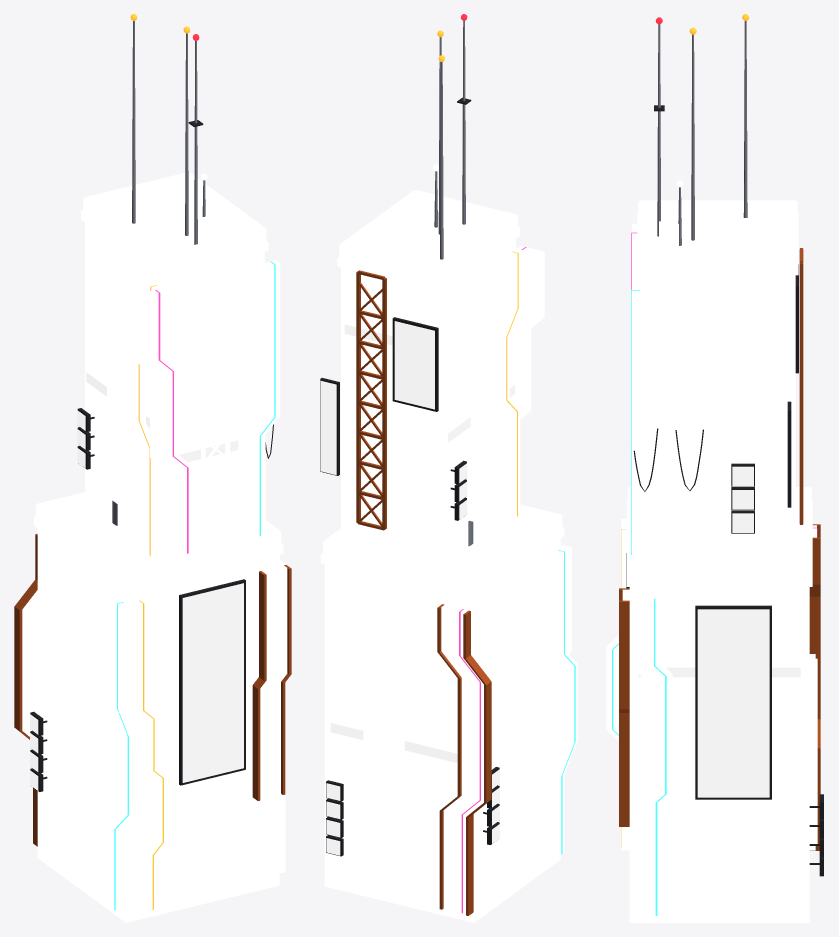
The model's file is k_tower_f.glb.
The picture shows the model from 3 angles, left to right: view 1: azimuth 30°, elevation 25°; view 2: azimuth 150°, elevation 25°; view 3: azimuth 270°, elevation 25°; orthographic projection. The views are drawn at different scales.
Visible parts, largest first — view 1: kit_grey, kit_mid, kit_dark, screen_atlas, kit_hex, steel_orange, metal_dark, metal_light, neon_amber, neon_cyan, neon_magenta; view 2: kit_mid, kit_grey, kit_dark, kit_hex, steel_orange, screen_atlas, metal_dark, metal_light, neon_magenta; view 3: kit_dark, kit_mid, kit_grey, screen_atlas, steel_orange, metal_dark, metal_light, neon_cyan, kit_hex.
Boxes of the visible parts, x1,y1,x2,y2 form: kit_grey: (22, 172, 287, 914); kit_mid: (37, 197, 279, 922); kit_dark: (85, 222, 264, 561); screen_atlas: (30, 372, 243, 790); kit_hex: (64, 378, 128, 829); steel_orange: (14, 534, 291, 846); metal_dark: (30, 120, 273, 791); metal_light: (112, 21, 205, 525); neon_amber: (130, 14, 190, 909); neon_cyan: (114, 261, 275, 910); neon_magenta: (155, 289, 188, 553); kit_mid: (324, 194, 560, 922); kit_grey: (320, 190, 577, 913); kit_dark: (341, 239, 515, 570); kit_hex: (365, 389, 532, 856); steel_orange: (356, 270, 491, 915); screen_atlas: (320, 321, 514, 855); metal_dark: (320, 97, 499, 856); metal_light: (434, 20, 473, 546); neon_magenta: (459, 247, 526, 913); kit_dark: (640, 275, 795, 562); kit_mid: (629, 218, 809, 922); kit_grey: (606, 200, 816, 915); screen_atlas: (638, 466, 800, 797); steel_orange: (619, 248, 820, 850); metal_dark: (626, 105, 823, 876); metal_light: (657, 21, 747, 245); neon_cyan: (612, 290, 666, 915); kit_hex: (815, 658, 817, 843).
Size of the model in its own units: 18.08 by 80.09 by 18.21.
